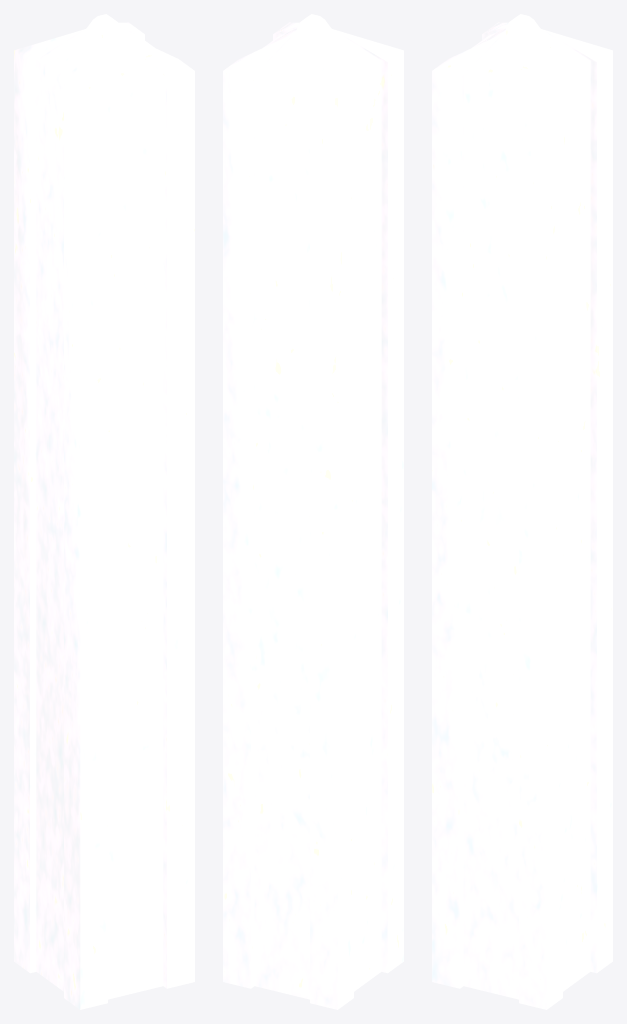
File: CA_006_iron_pillar_var8.glb
The picture shows the model from 3 angles, left to right: view 1: azimuth 30°, elevation 25°; view 2: azimuth 150°, elevation 25°; view 3: azimuth 330°, elevation 25°; orthographic projection.
Visible parts, largest first — view 1: pillar; view 2: pillar; view 3: pillar.
Boxes of the visible parts, x1,y1,x2,y2 form: pillar: (14, 14, 194, 1009); pillar: (223, 14, 403, 1009); pillar: (432, 14, 612, 1009).
Bounding box in the file's own units: 0.75 × 5.97 × 0.75.
Materials: 1 (1 with a texture image).
